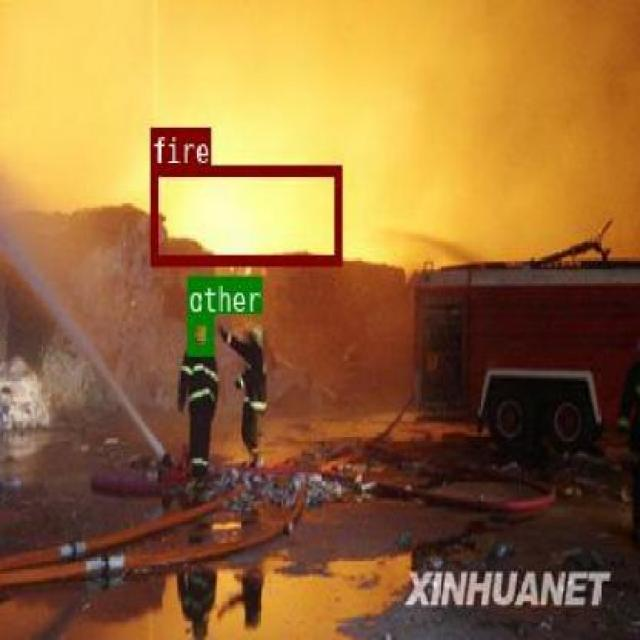fire: (151, 163, 340, 263)
